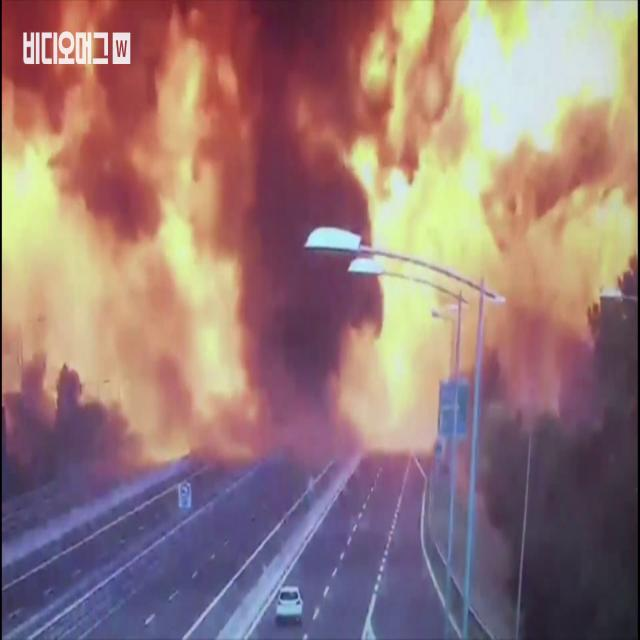explosion: (0, 4, 640, 536)
